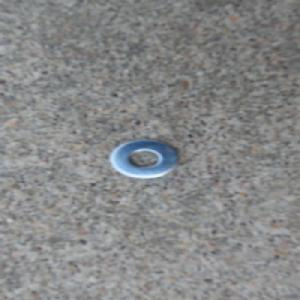Washer: (107, 136, 180, 179)
